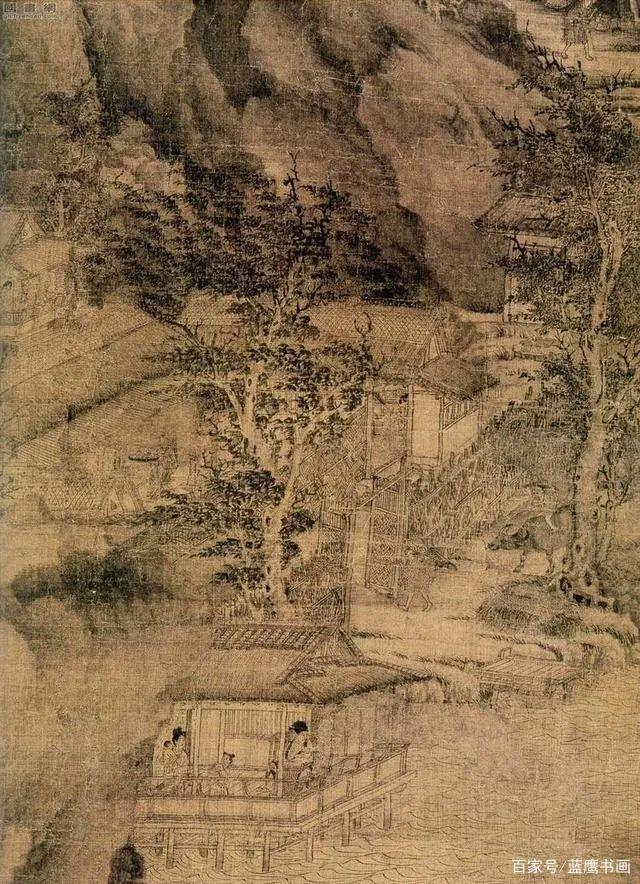booth: (144, 621, 426, 863)
house: (359, 342, 532, 585), (9, 341, 233, 496), (477, 181, 582, 391), (4, 464, 214, 561), (1, 210, 79, 335)
kid: (207, 745, 238, 797), (160, 743, 176, 766)
man: (559, 1, 602, 63), (281, 721, 310, 780)
river: (428, 645, 640, 839)
tree: (142, 211, 323, 624)
woman: (158, 727, 190, 792)
